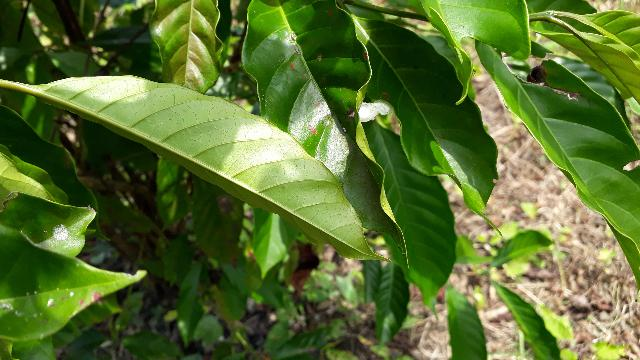healthy: (251, 99, 621, 292)
